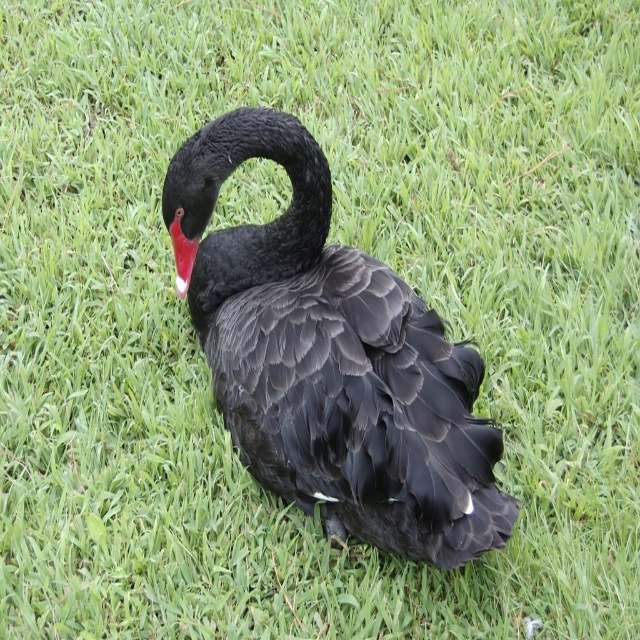Swan: (162, 107, 522, 568)
